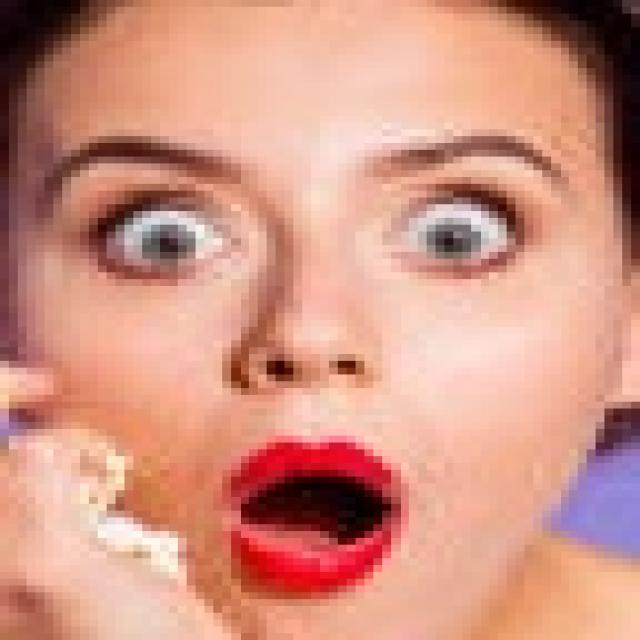Anxiety: (0, 0, 631, 633)
